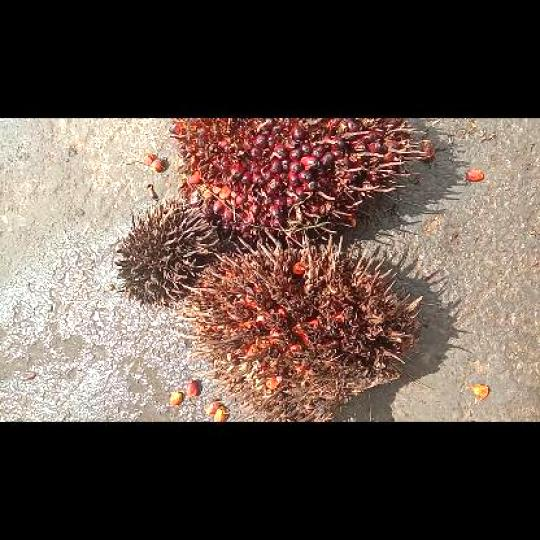masak: (169, 118, 428, 244)
terlalu masak: (177, 231, 420, 418)
